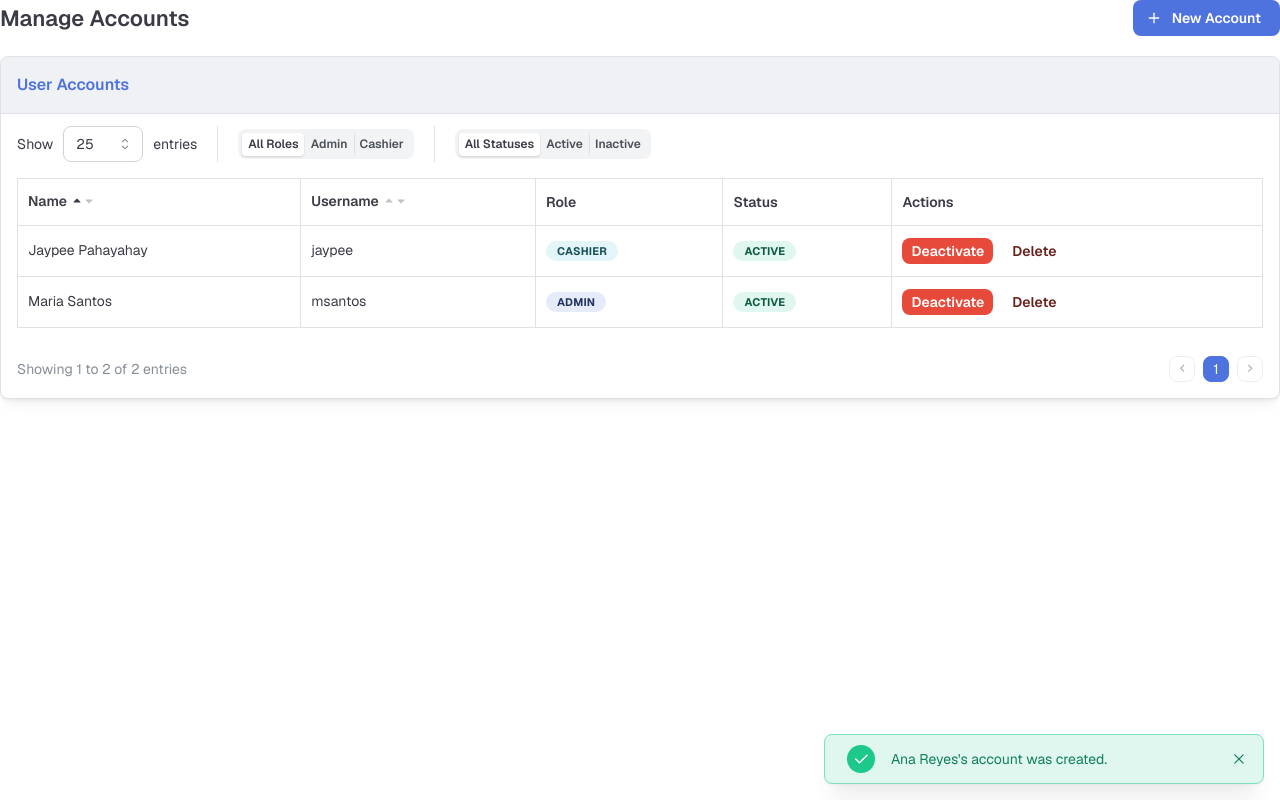
Scenario: ManageAccountsPage › won't submit a password shorter than the client-side minimum
Check: the text "Jaypee Pahayahay" is shown, box top-left (18, 225), bottom-right (301, 276)
Click the button "New Account". click: (1206, 18)
box: top-left (1133, 0), bottom-right (1279, 36)
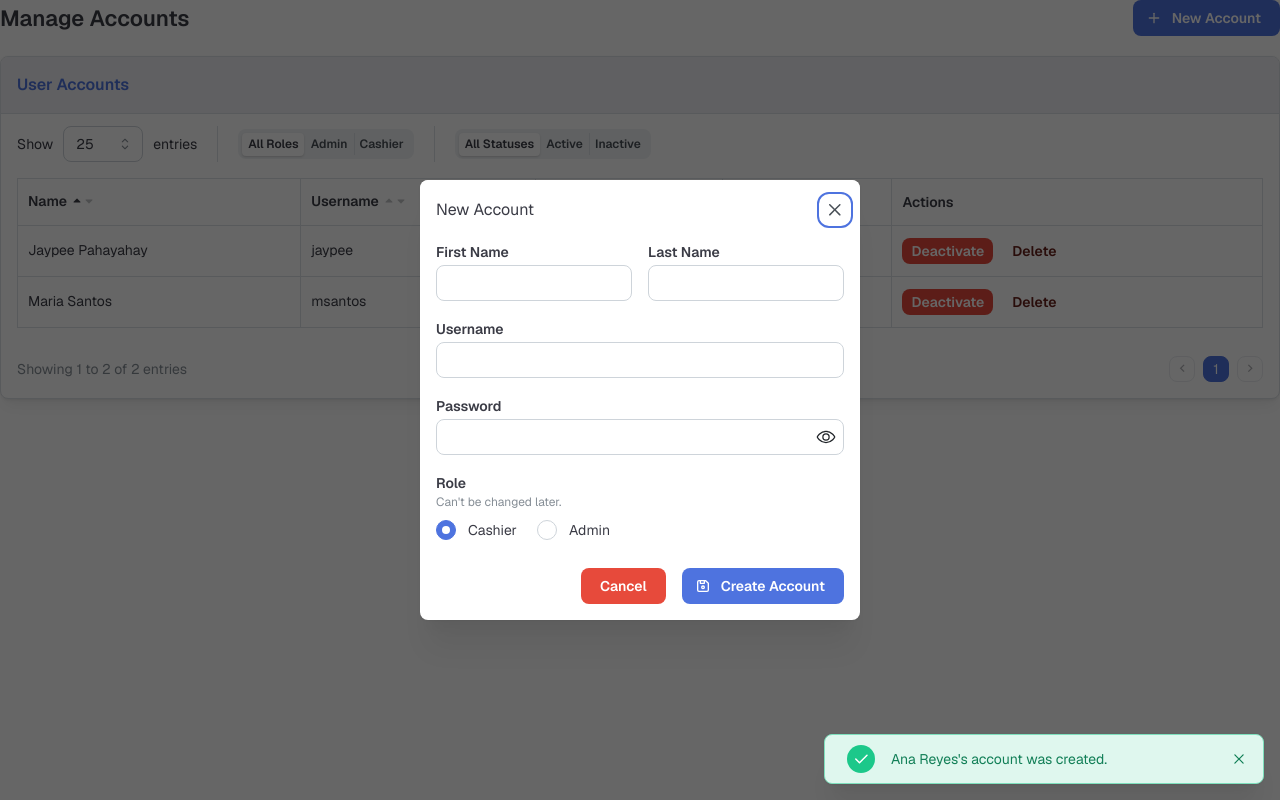
Check: the field labelled "First Name" is shown
Type "Ana" into the field labelled "First Name". click: (534, 283)
box: top-left (436, 265), bottom-right (632, 301)
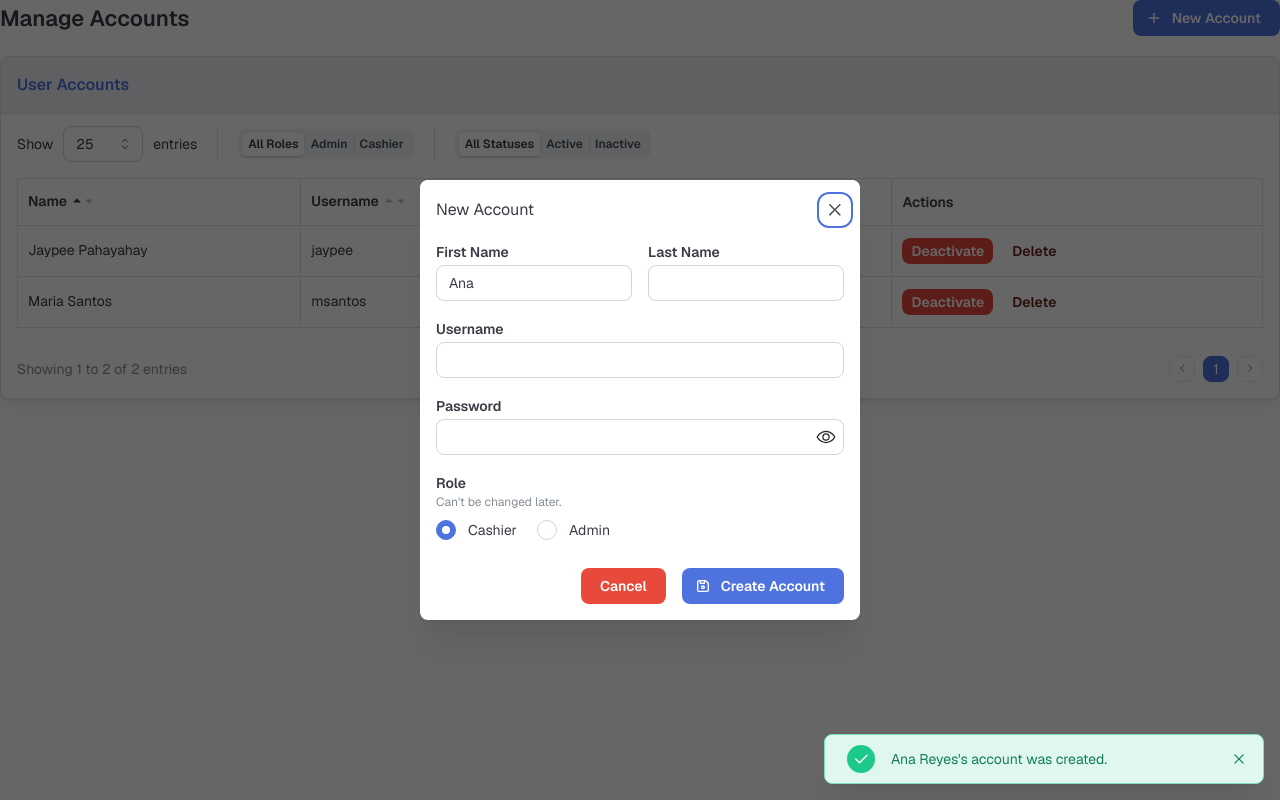
Type "Reyes" into the field labelled "Last Name". click: (746, 283)
box: top-left (648, 265), bottom-right (844, 301)
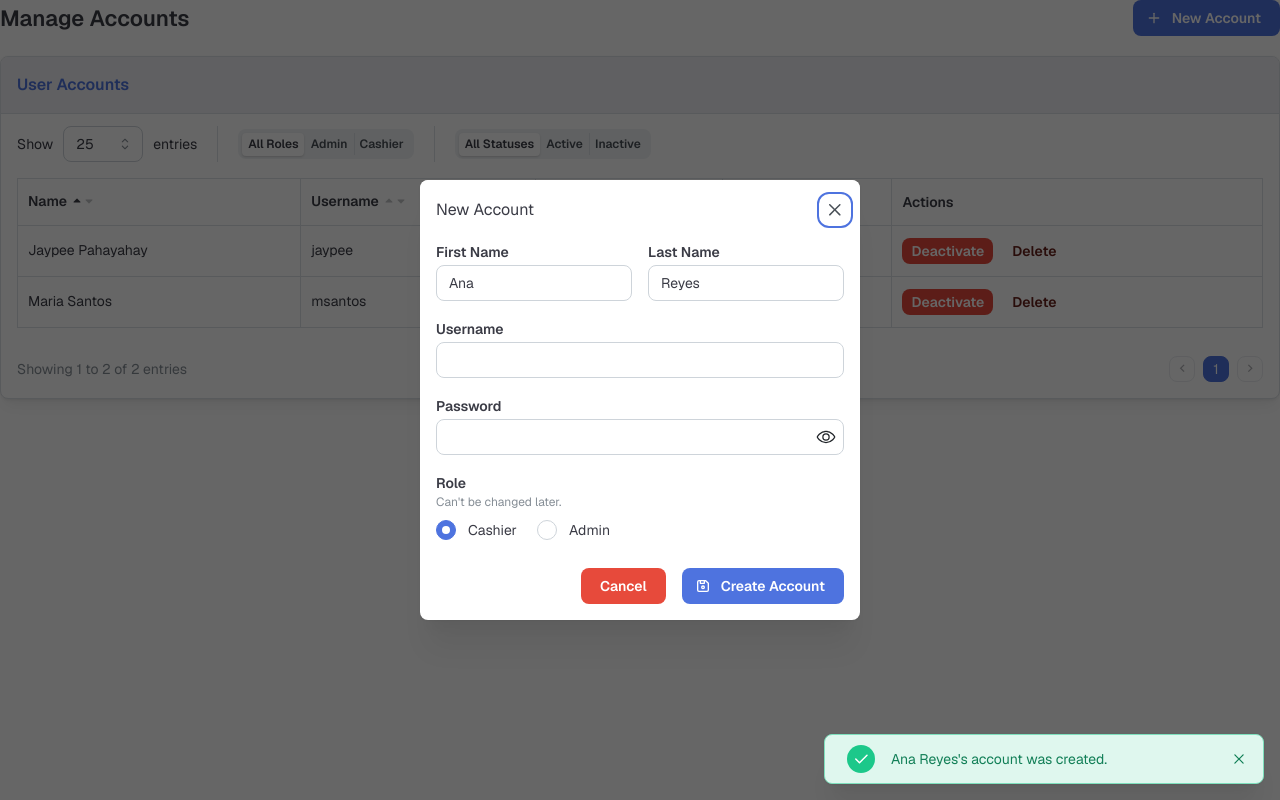
Type "areyes" into the field labelled "Username". click: (640, 360)
box: top-left (436, 342), bottom-right (844, 378)
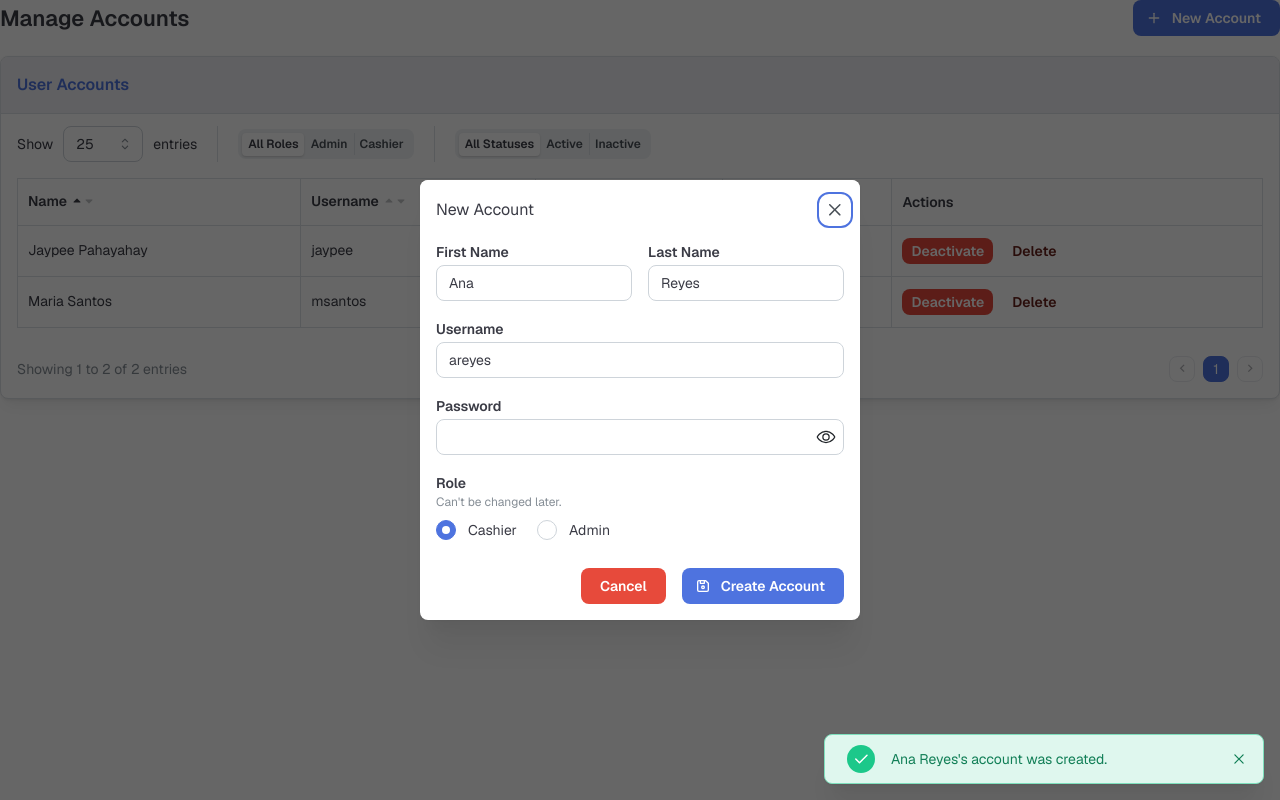
Type "short" into the password field labelled "Password". click: (640, 437)
box: top-left (437, 420), bottom-right (843, 454)
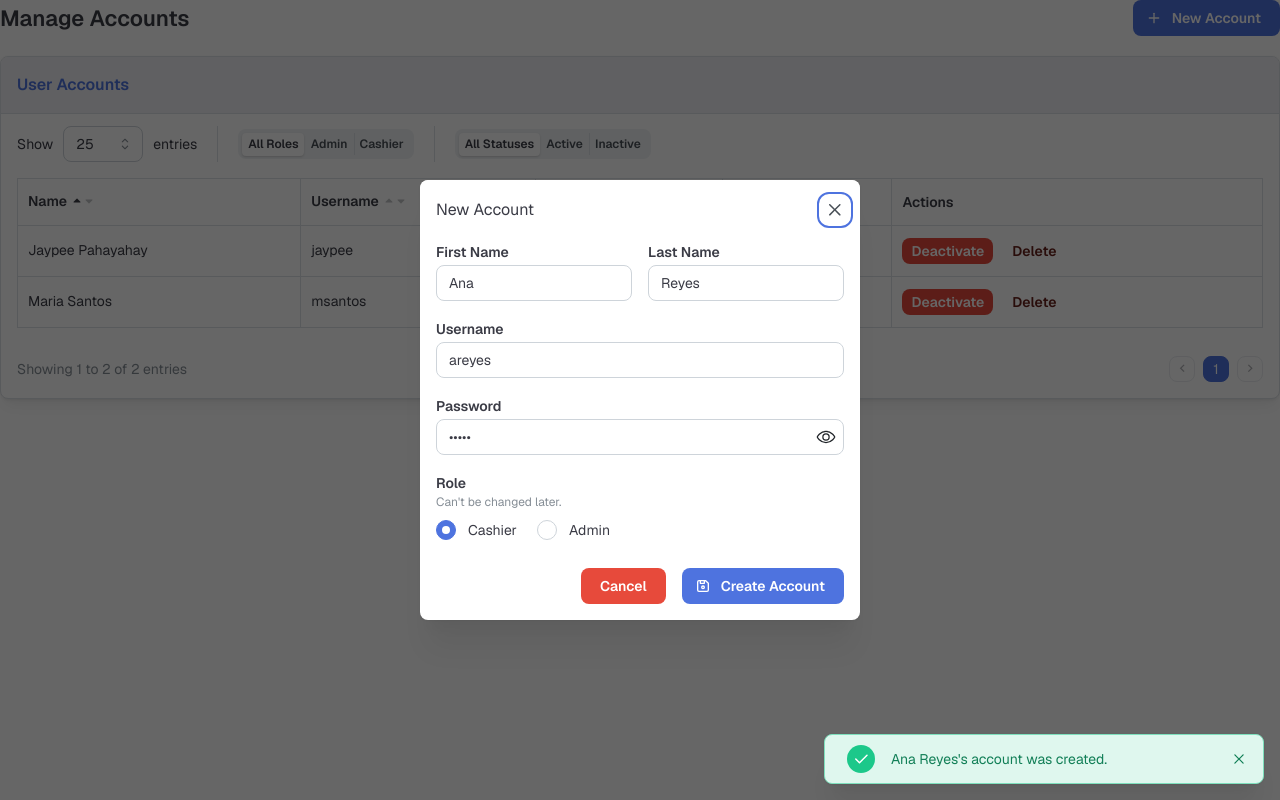
Click the button "Create Account". click: (763, 586)
box: top-left (682, 568), bottom-right (844, 604)
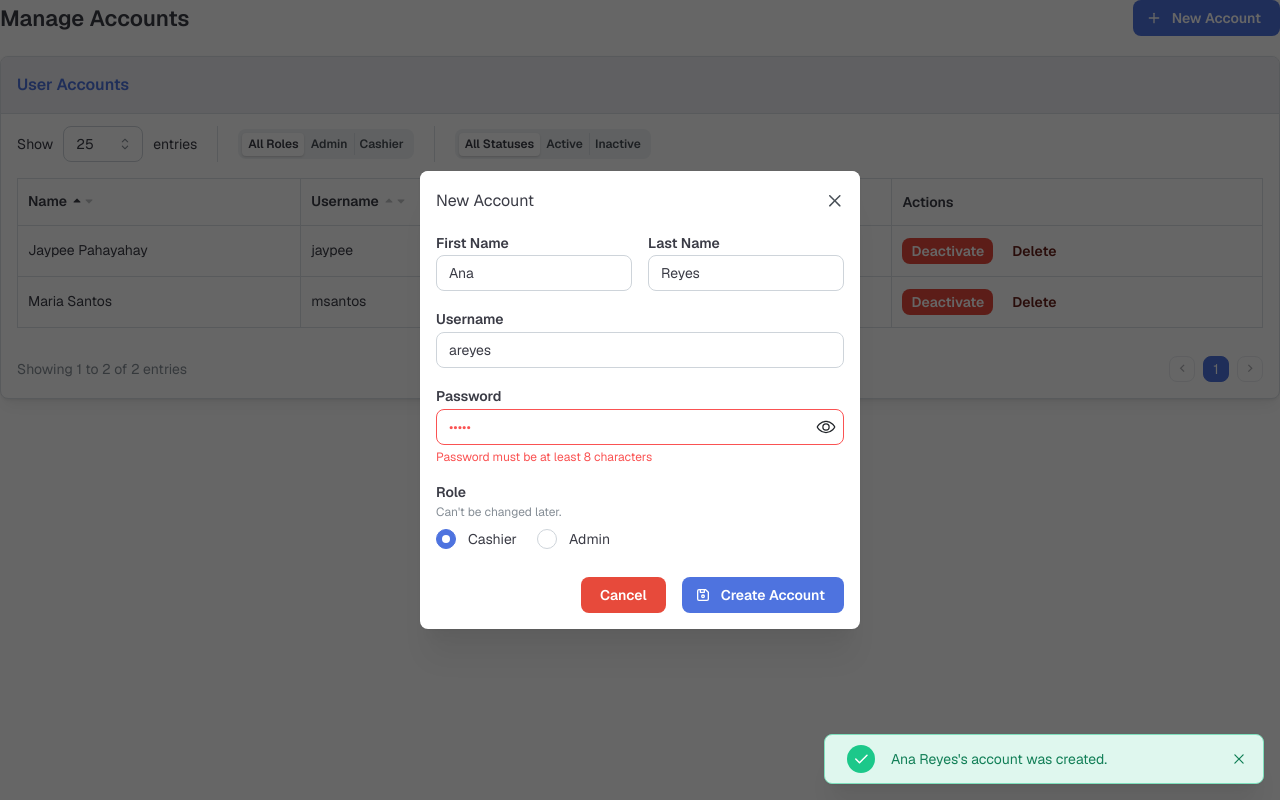
Check: the text "Password must be at least 8 characters" is shown, box top-left (436, 449), bottom-right (652, 465)
